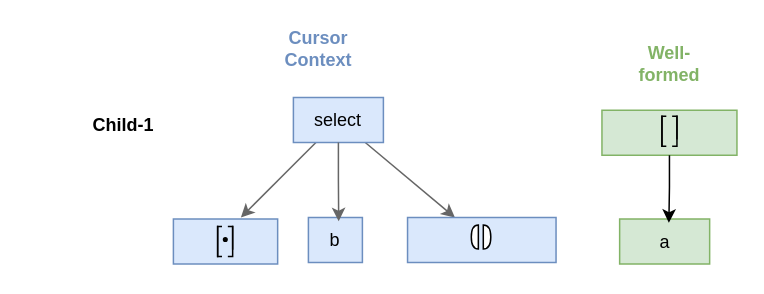
Some shapes in this 764 by 294 pixel diagram are drawn without their labels. The centre of each missing label's shape, as x and y in pixels:
"clause" goes at [481,239].
"id" goes at [668,132].
